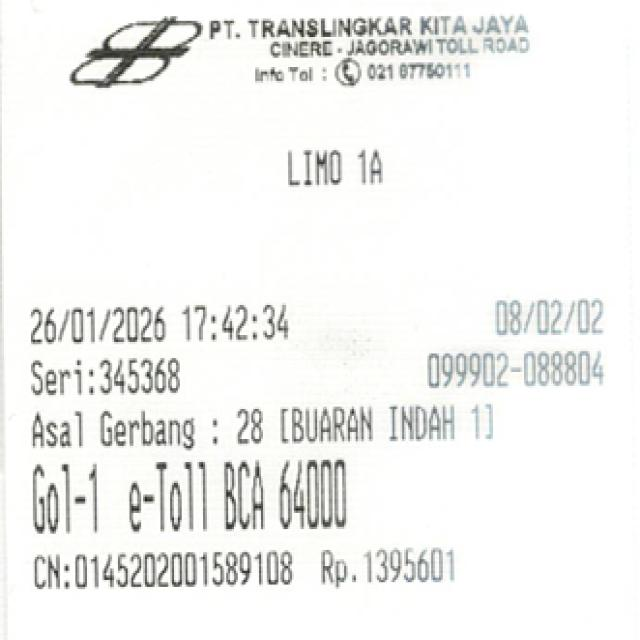date: (28, 299, 299, 351)
store: (208, 10, 563, 59)
total: (277, 458, 361, 533)
